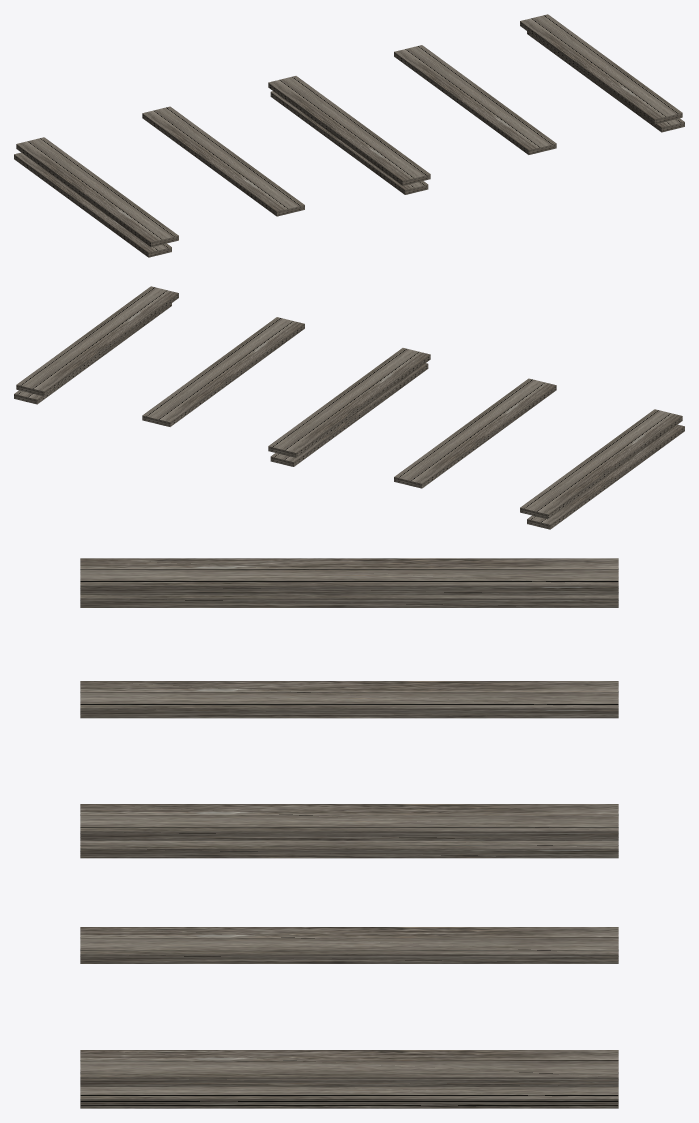
Rendered from pallet_wood.glb.
3 views of the same model, one above another, from view 1: azimuth 30°, elevation 25°; view 2: azimuth 150°, elevation 25°; view 3: azimuth 270°, elevation 25° (orthographic). The views are drawn at different scales.
Visible parts, largest first — view 1: pallet_wood; view 2: pallet_wood; view 3: pallet_wood.
Part boxes in pixels (x1=…): pallet_wood: x1=14, y1=14, x2=684, y2=257; pallet_wood: x1=14, y1=286, x2=684, y2=529; pallet_wood: x1=80, y1=558, x2=618, y2=1108.
Bounding box in the file's own units: 1.15 × 0.03 × 0.5.
1 material, 1 textured.
